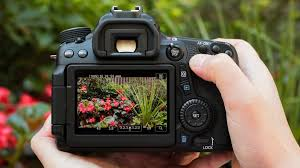camera: (55, 25, 236, 152)
